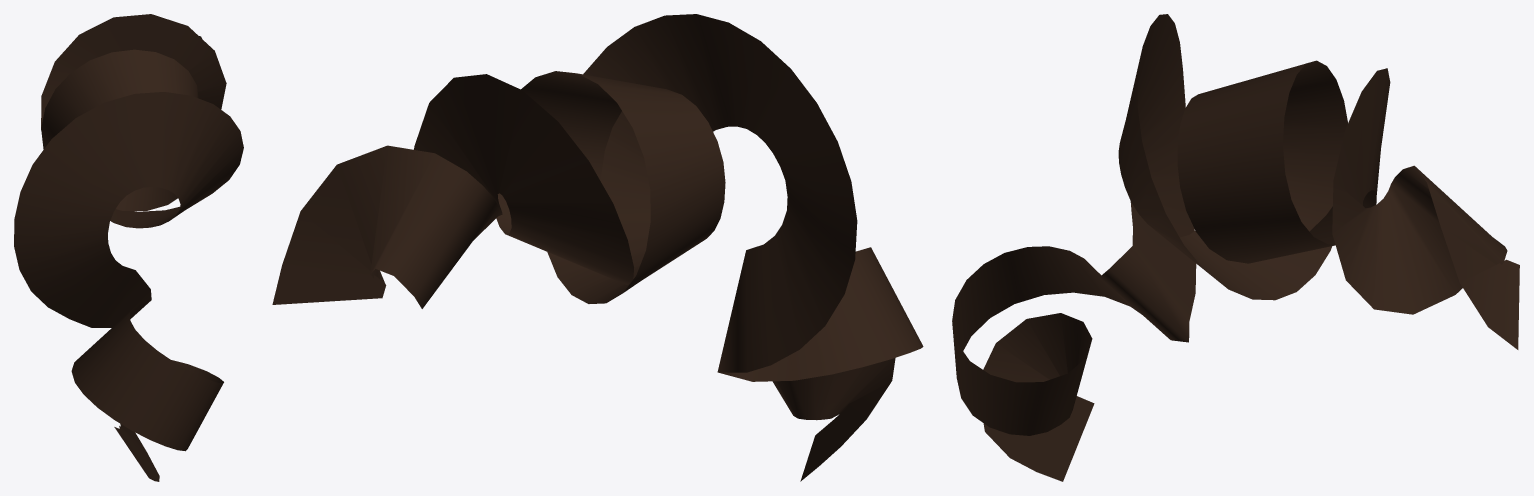
The model's file is hair.dae.
The picture shows the model from 3 angles, left to right: view 1: azimuth 30°, elevation 25°; view 2: azimuth 150°, elevation 25°; view 3: azimuth 270°, elevation 25°; orthographic projection. The views are drawn at different scales.
Visible parts, largest first — view 1: polySurface618; view 2: polySurface618; view 3: polySurface618.
Boxes of the visible parts, x1,y1,x2,y2 form: polySurface618: (14, 14, 243, 481); polySurface618: (272, 14, 923, 481); polySurface618: (952, 14, 1519, 481).
Bounding box in the file's own units: 7.22 × 8.03 × 8.82.
